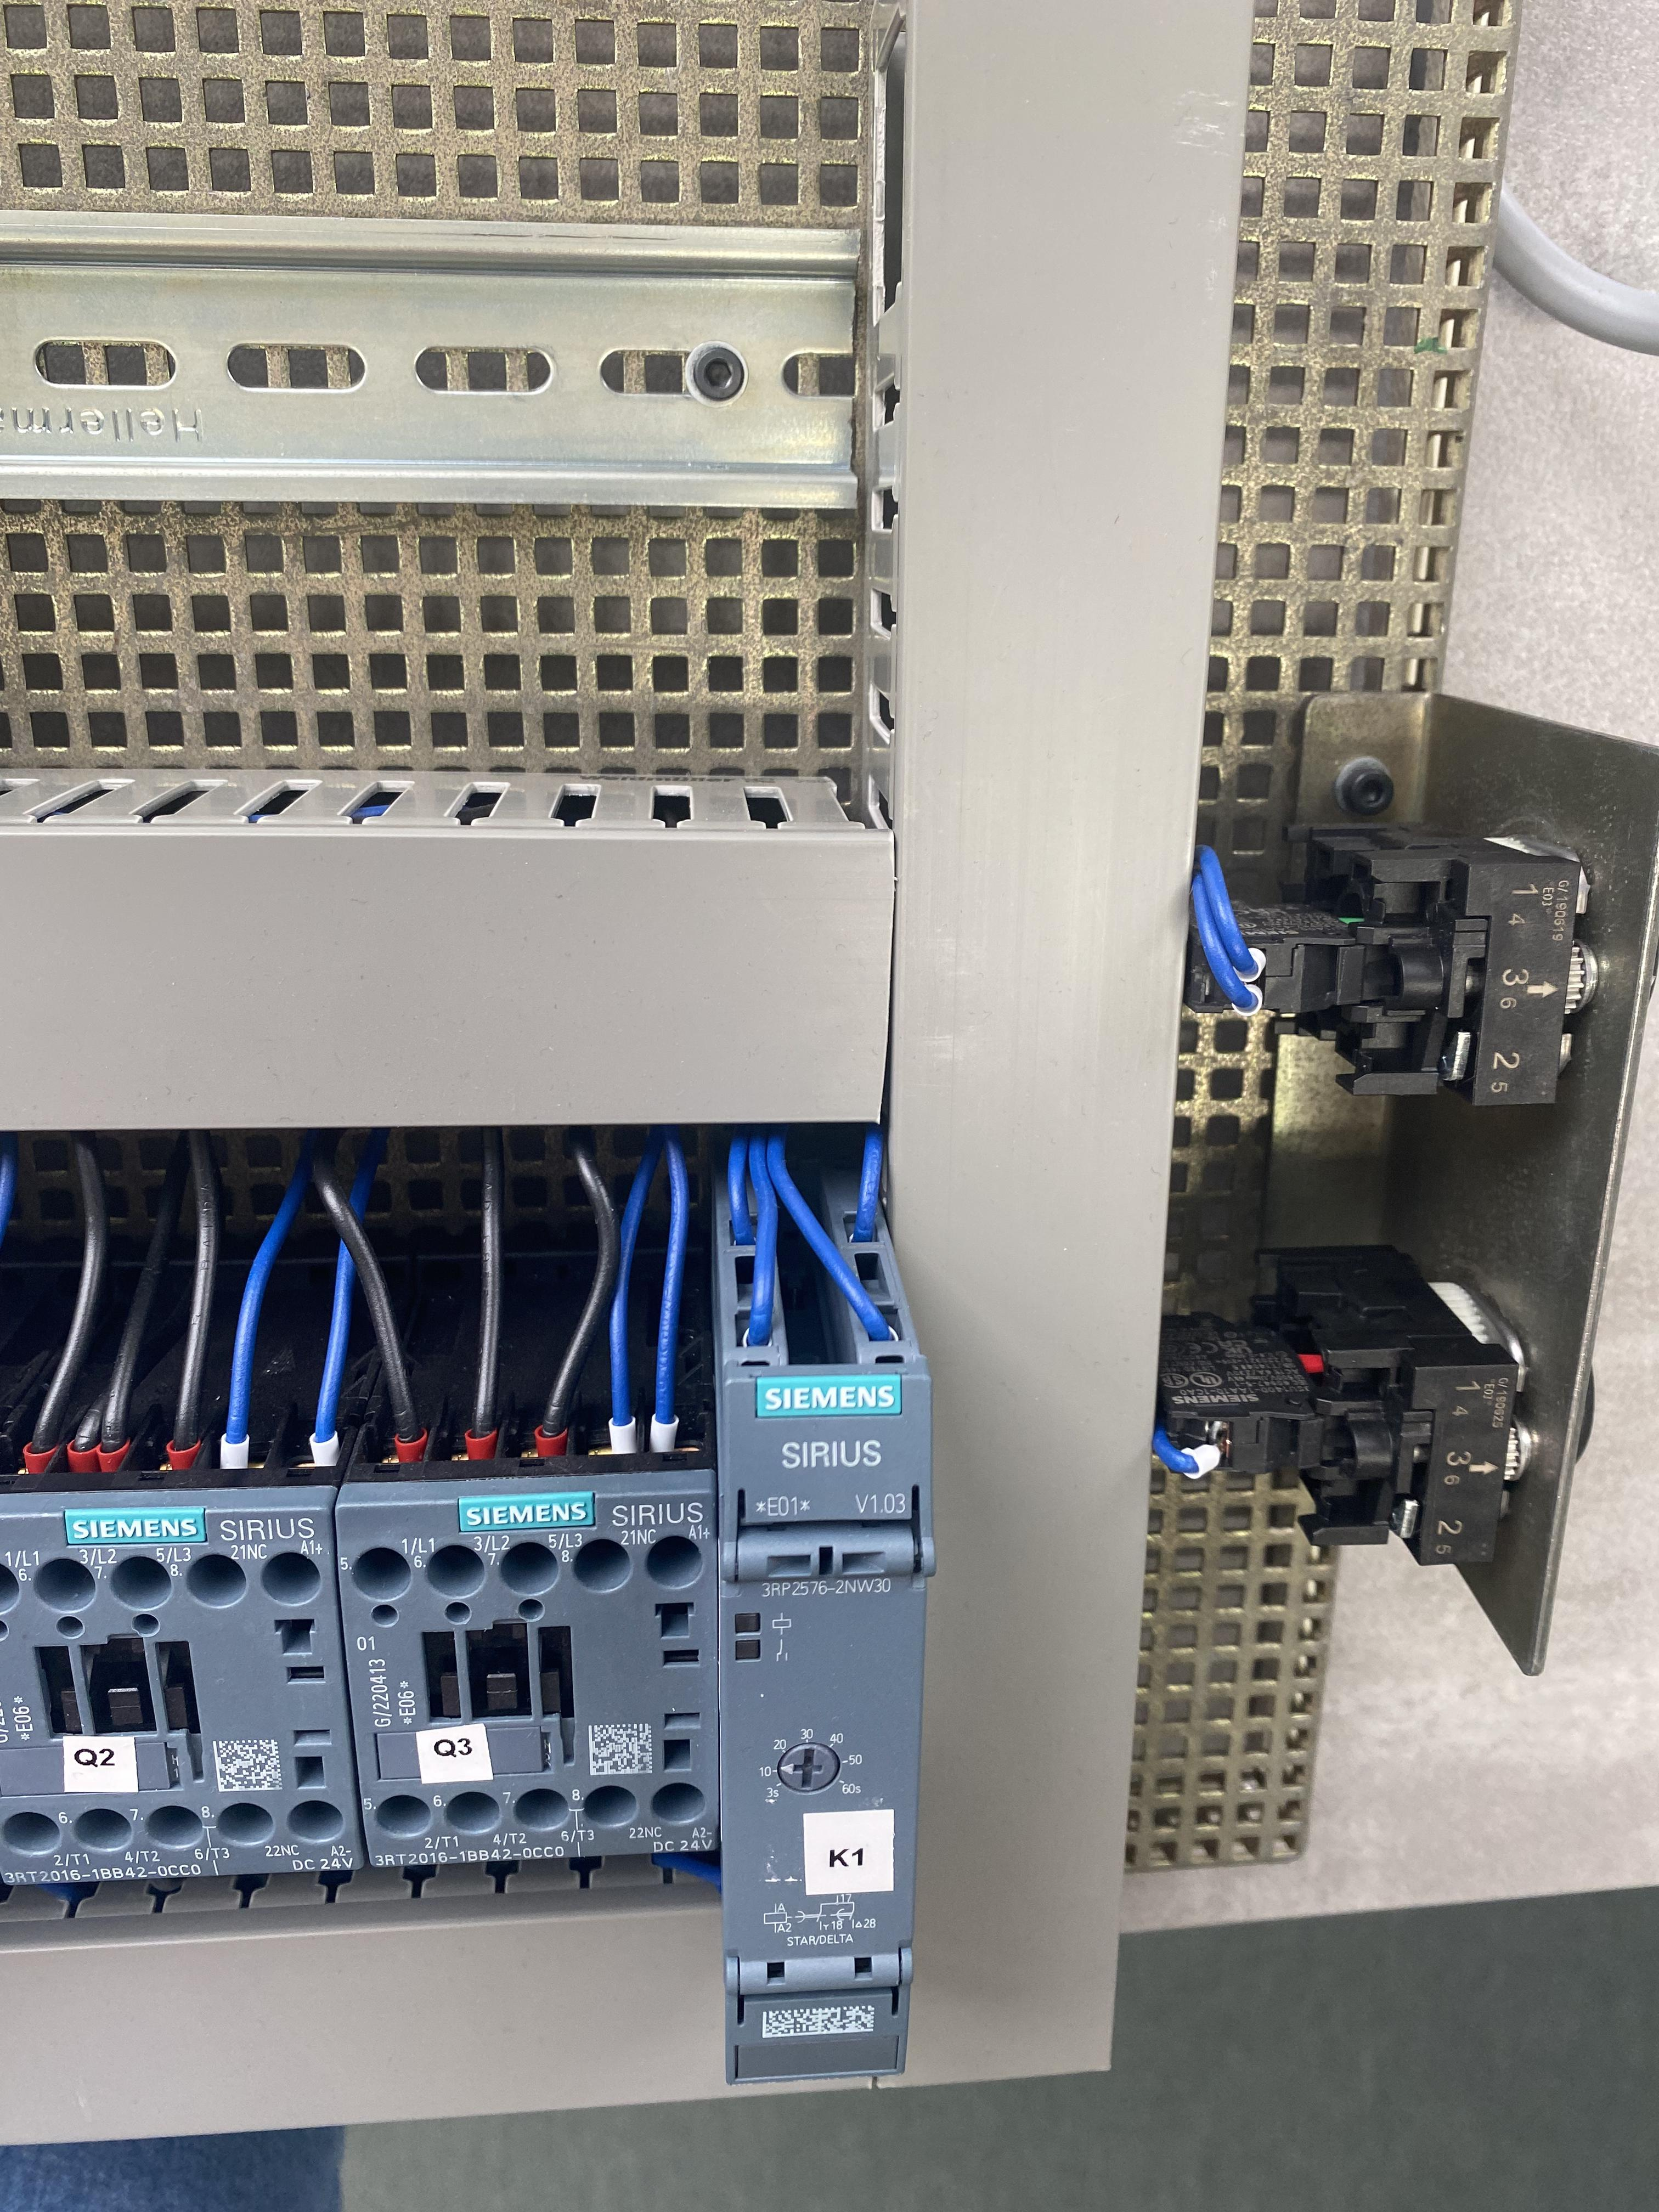K1: (720, 1371, 938, 2085)
Q2: (0, 1503, 366, 1886)
Q3: (333, 1491, 720, 1867)
